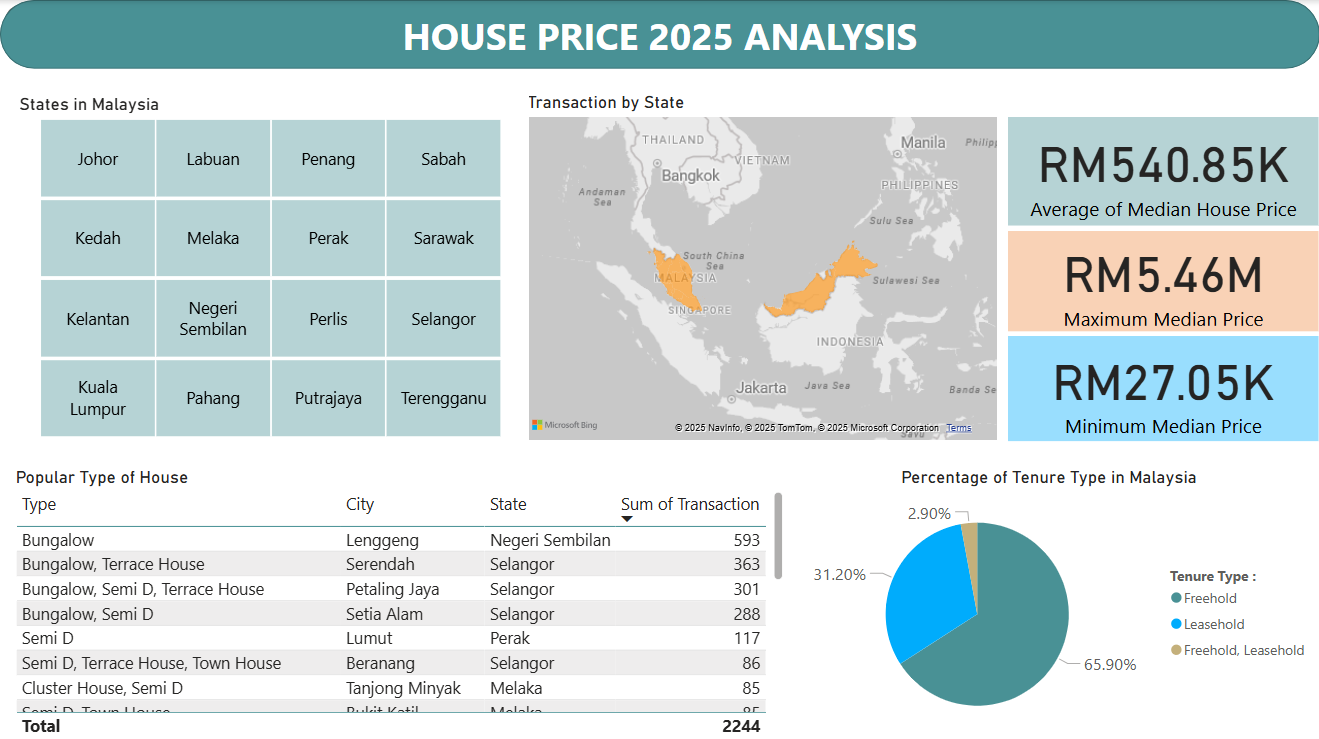

The dashboard page shown, as its layout file describes it:
{"tool":"powerbi","page":{"name":"HOUSE PRICE 2025","canvas":[1280,720],"ordinal":0},"visuals":[{"type":"actionButton","box":[0,0,100,40],"z":0},{"type":"filledMap","title":"Transaction by State","fields":{"Category":["avg_median_price_states.state"]},"box":[506.8,89.1,466.3,343.3],"z":1000},{"type":"card","fields":{"Values":["Avg(avg_median_price_states.avg_median_price)"]},"box":[978,113.3,301.2,105.2],"z":2000},{"type":"card","fields":{"Values":["Sum(min_max_price_states.max_median_price)"]},"box":[978,223.5,301.2,97.2],"z":3000},{"type":"card","fields":{"Values":["Sum(min_max_price_states.min_median_price)"]},"box":[978,325.5,301.2,102],"z":4000},{"type":"pieChart","title":"Percentage of Tenure Type in Malaysia","fields":{"Category":["tenure_percentage.tenure_type"],"Y":["Sum(tenure_percentage.tenure_percentage)"]},"box":[755,453.3,525,266.7],"z":5000},{"type":"tableEx","title":"Popular Type of House","fields":{"Values":["transaction_rank.type","transaction_rank.city","transaction_rank.state","Sum(transaction_rank.transaction)"]},"box":[9.7,452.8,754.6,267.2],"z":6000},{"type":"shape","box":[0,0,1280.7,66.7],"z":7000},{"type":"slicer","title":"States in Malaysia","fields":{"Values":["avg_median_price_states.state"]},"box":[0,76.7,513.3,355],"z":8000}]}

Visuals, with their boxes in screenshot pixels (x1, y1, x2, y2), scaled from the page's 1280x720 canvas onto the 1319x739 screenshot:
actionButton: {"x1": 0, "y1": 0, "x2": 103, "y2": 41}
"Transaction by State" filledMap: {"x1": 522, "y1": 91, "x2": 1003, "y2": 444}
card - Avg(avg_median_price_states.avg_median_price): {"x1": 1008, "y1": 116, "x2": 1318, "y2": 224}
card - Sum(min_max_price_states.max_median_price): {"x1": 1008, "y1": 229, "x2": 1318, "y2": 329}
card - Sum(min_max_price_states.min_median_price): {"x1": 1008, "y1": 334, "x2": 1318, "y2": 439}
"Percentage of Tenure Type in Malaysia" pieChart: {"x1": 778, "y1": 465, "x2": 1318, "y2": 738}
"Popular Type of House" tableEx: {"x1": 10, "y1": 465, "x2": 788, "y2": 738}
shape: {"x1": 0, "y1": 0, "x2": 1318, "y2": 68}
"States in Malaysia" slicer: {"x1": 0, "y1": 79, "x2": 529, "y2": 443}
